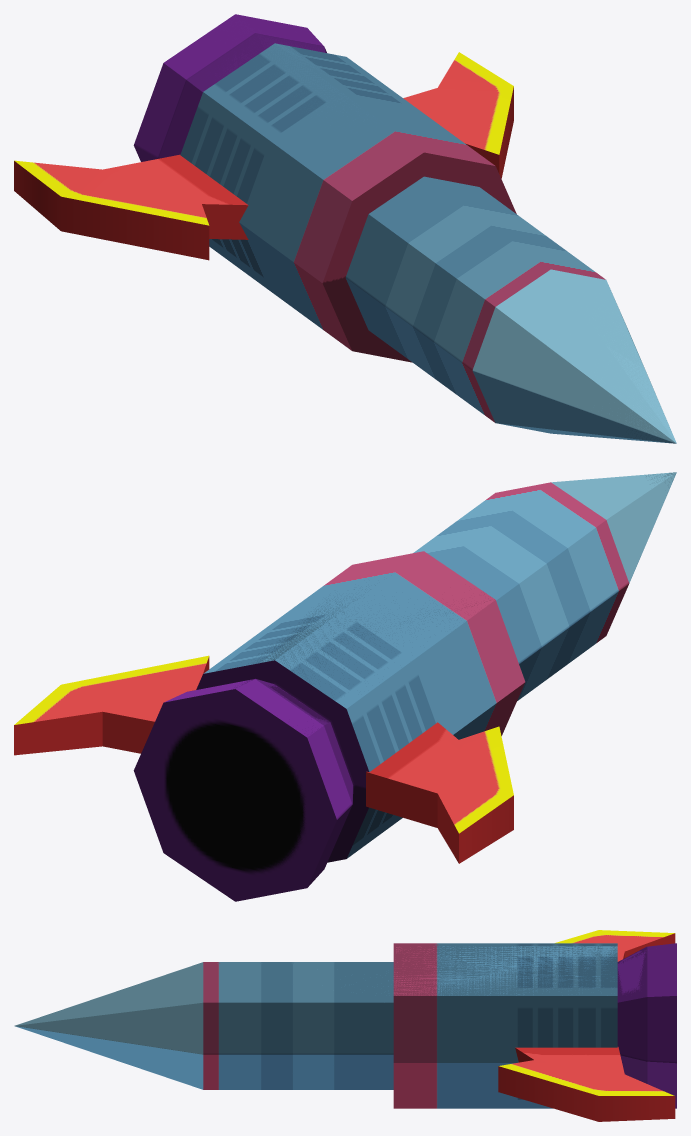
The model's file is bullet_shell_b.FBX.
3 renders of one model, top to bottom at view 1: azimuth 30°, elevation 25°; view 2: azimuth 150°, elevation 25°; view 3: azimuth 270°, elevation 25°, orthographic. The views are drawn at different scales.
Visible parts, largest first — view 1: bullet_shell_b; view 2: bullet_shell_b; view 3: bullet_shell_b.
Part boxes in pixels (left/top/right/bottom): bullet_shell_b: left=14, top=14, right=676, bottom=443; bullet_shell_b: left=14, top=472, right=676, bottom=901; bullet_shell_b: left=14, top=930, right=676, bottom=1121.
Size of the model in its own units: 45.56 by 20.45 by 76.94.
